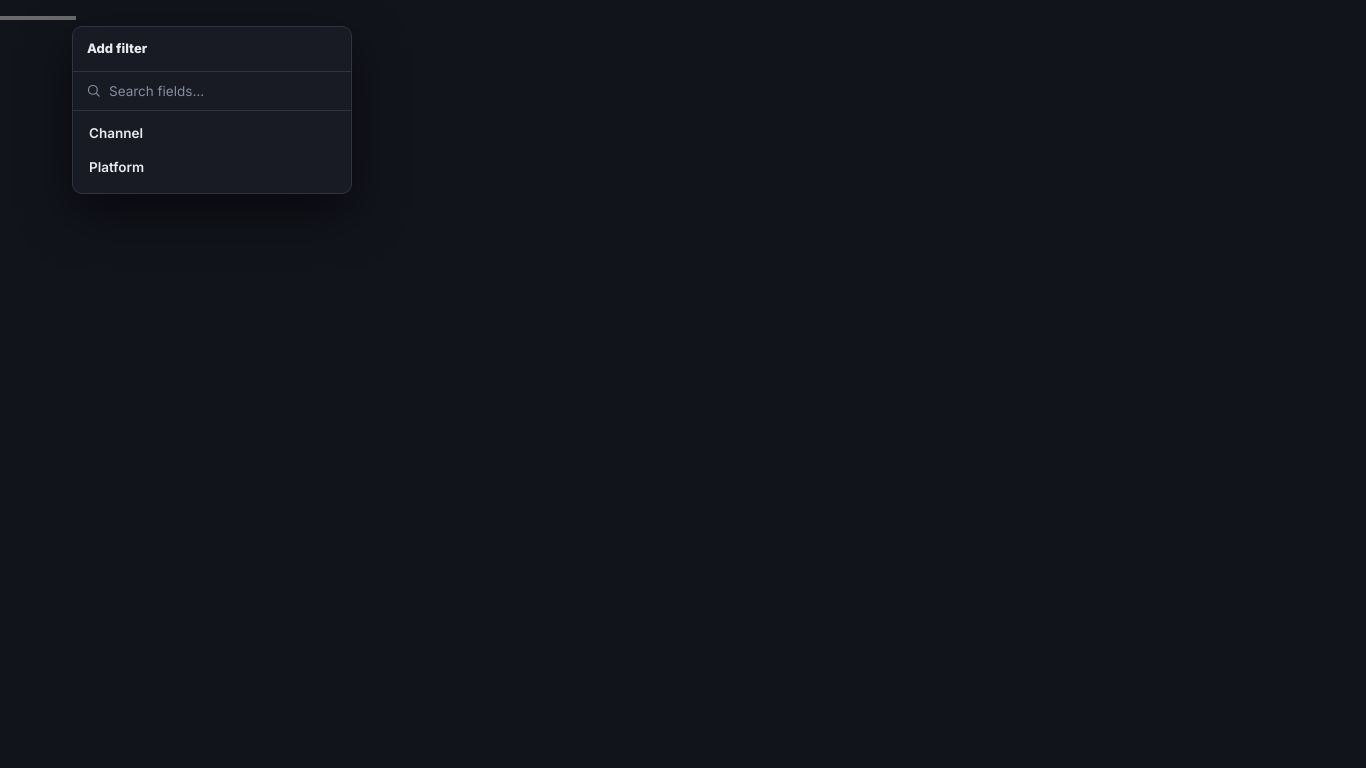
it: DataTableFieldPickerPopover › should narrow the list to what the search matches
Note: that is typed into the search
Type "chan" into the field labelled "Search fields".
click(224, 91); type("chan")  # box [109,80,338,101]
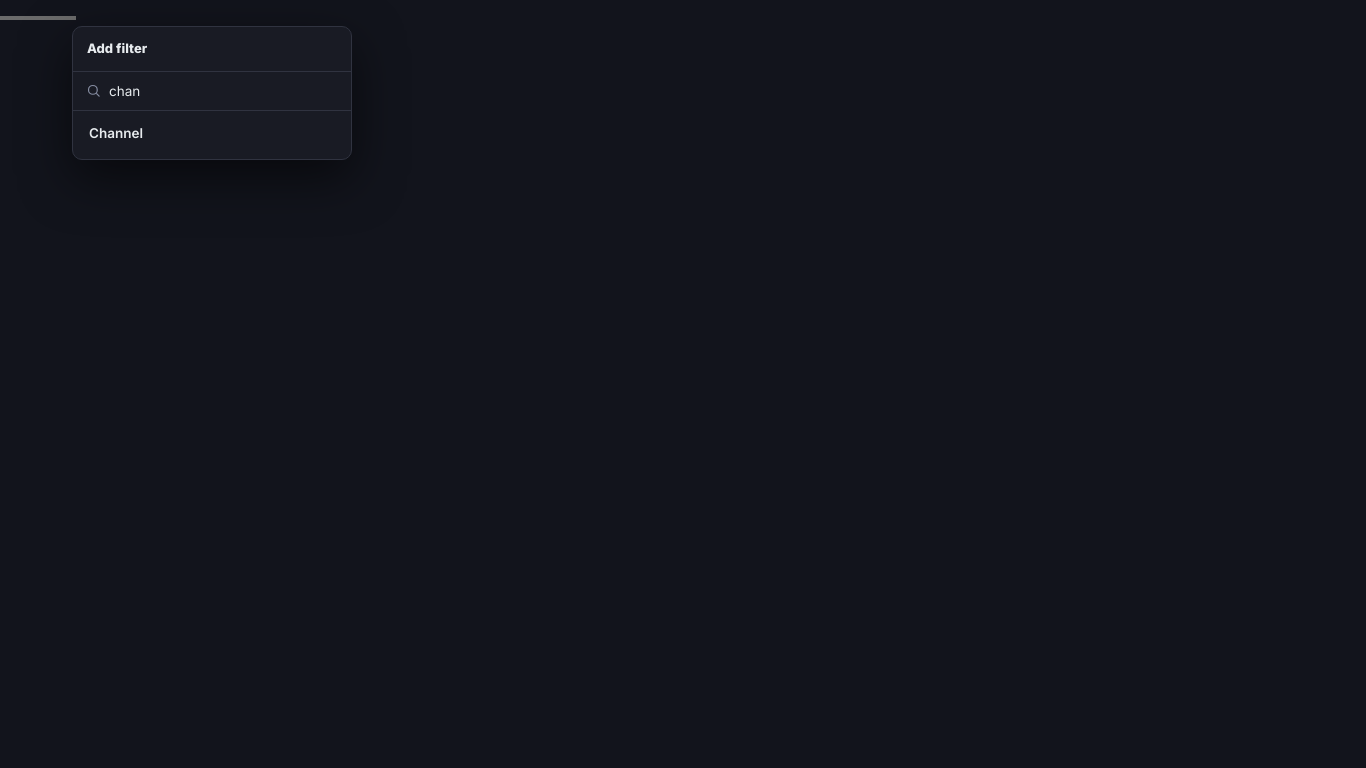
Expected: the text "Channel" is shown, [89,125,143,141]
Now the button "Platform" is gone
